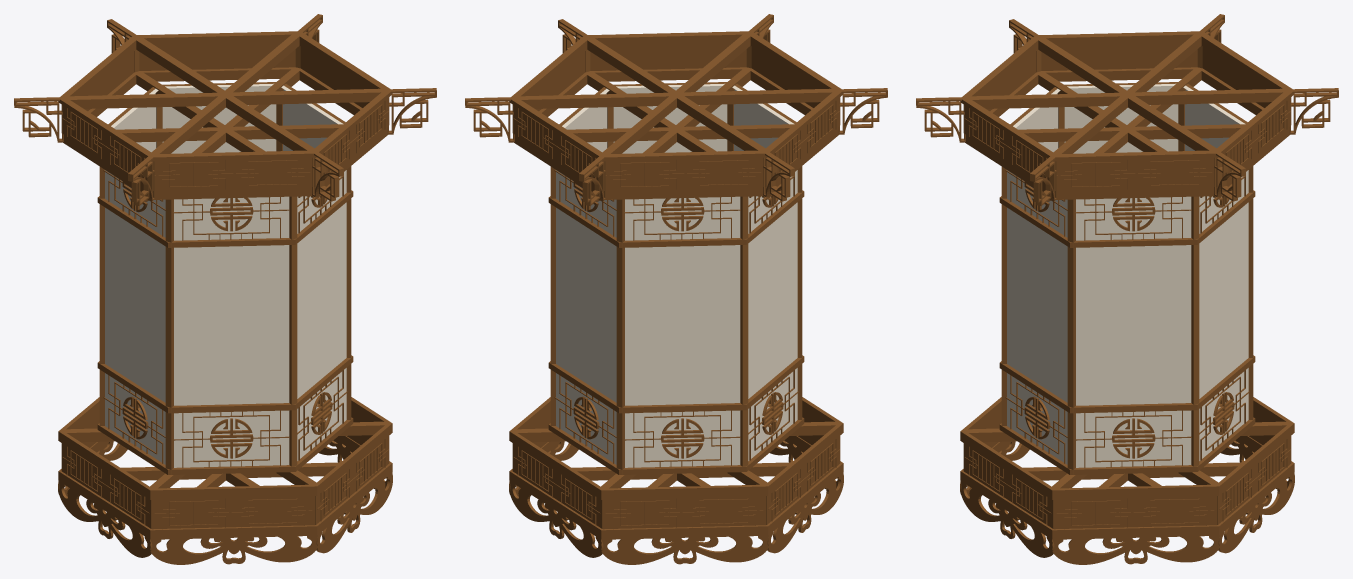
File: lantern_v5.glb
3 renders of one model, left to right at view 1: azimuth 30°, elevation 25°; view 2: azimuth 150°, elevation 25°; view 3: azimuth 270°, elevation 25°, orthographic.
Visible parts, largest first — view 1: Wood_Frame, Paper_Panels; view 2: Wood_Frame, Paper_Panels; view 3: Wood_Frame, Paper_Panels.
Boxes of the visible parts, <box> form: Wood_Frame: <box>14,14,436,564</box>; Paper_Panels: <box>105,83,346,467</box>; Wood_Frame: <box>465,14,887,564</box>; Paper_Panels: <box>556,83,797,467</box>; Wood_Frame: <box>916,14,1338,564</box>; Paper_Panels: <box>1007,83,1248,467</box>.
Bounding box in the file's own units: 158 × 188 × 176.
